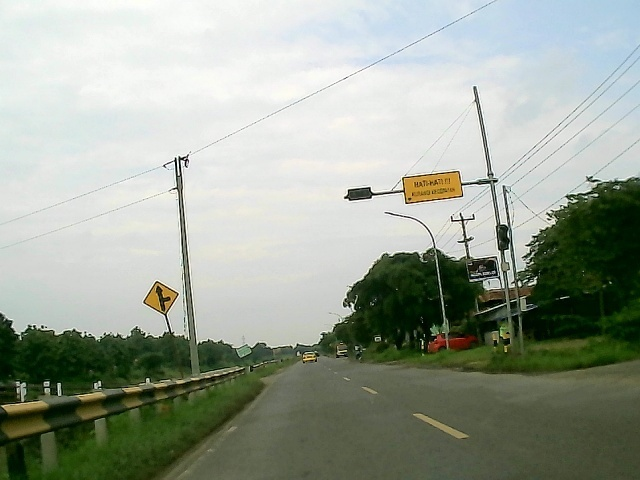Simpang kanan dengan prioritas: (141, 279, 180, 316)
